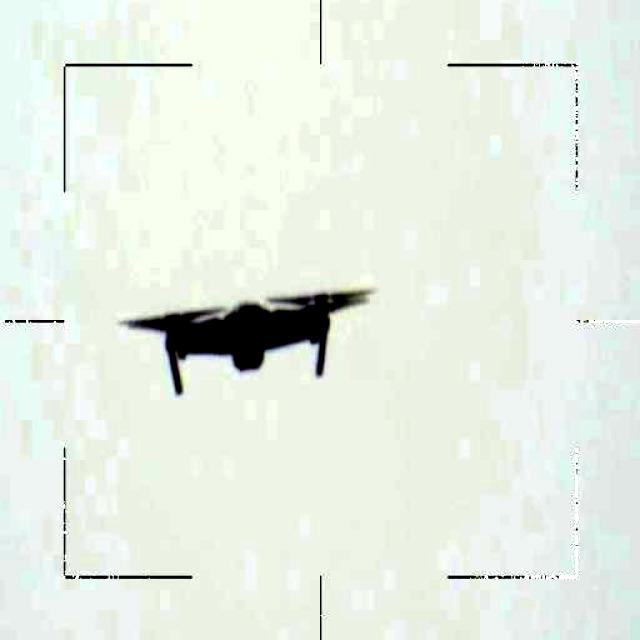bird: (128, 284, 374, 392)
